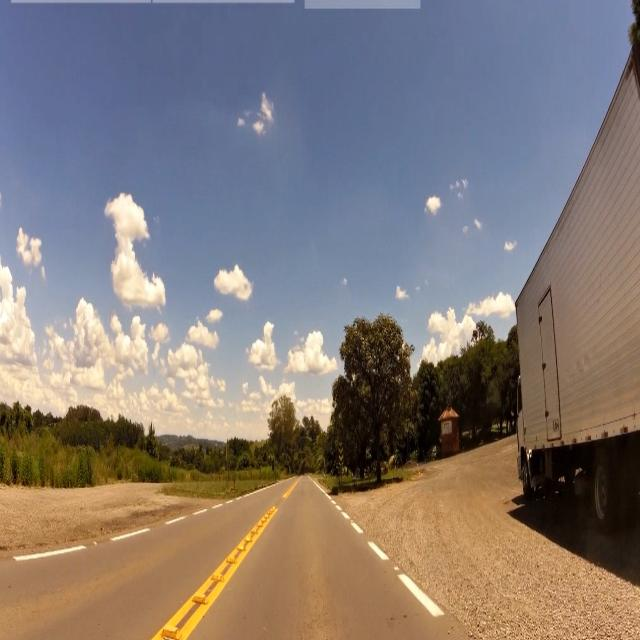MP: (339, 442, 344, 468)
